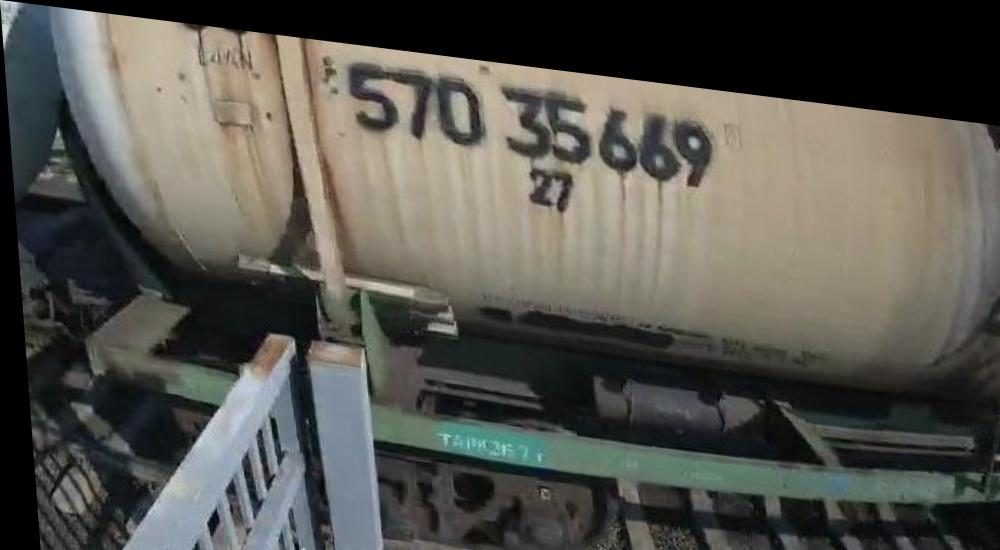Wagon-number: (345, 48, 717, 174)
